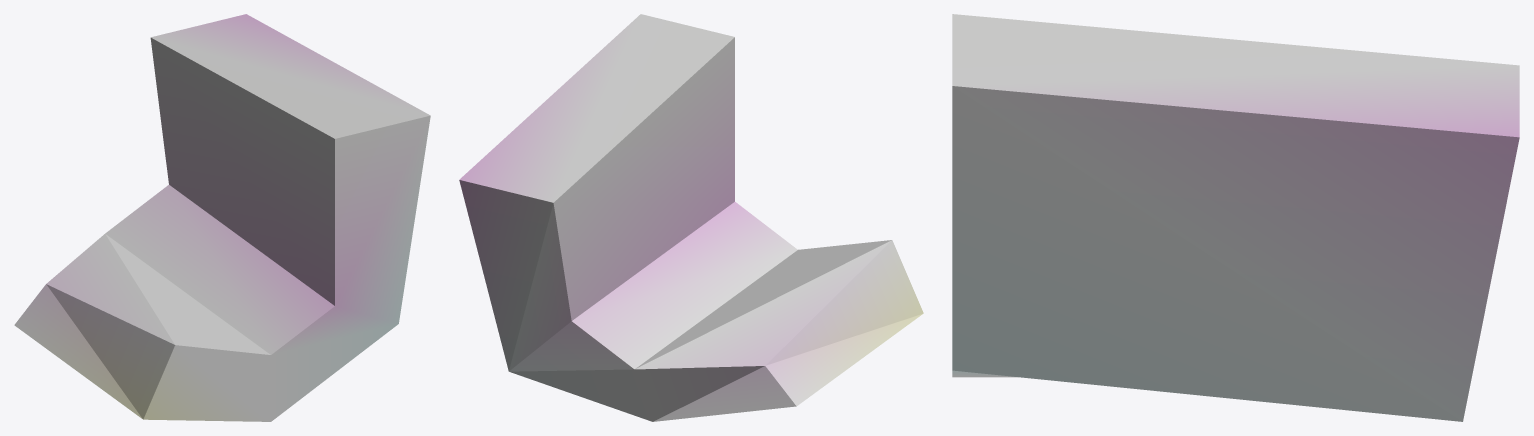
The picture shows the model from 3 angles, left to right: view 1: azimuth 30°, elevation 25°; view 2: azimuth 150°, elevation 25°; view 3: azimuth 270°, elevation 25°; orthographic projection. The views are drawn at different scales.
Visible parts, largest first — view 1: model_114E; view 2: model_114E; view 3: model_114E.
Part boxes in pixels (bbox=[...]): model_114E: bbox=[14, 14, 430, 421]; model_114E: bbox=[459, 14, 923, 421]; model_114E: bbox=[952, 14, 1519, 421].
Size of the model in its own units: 9 by 8 by 10.
